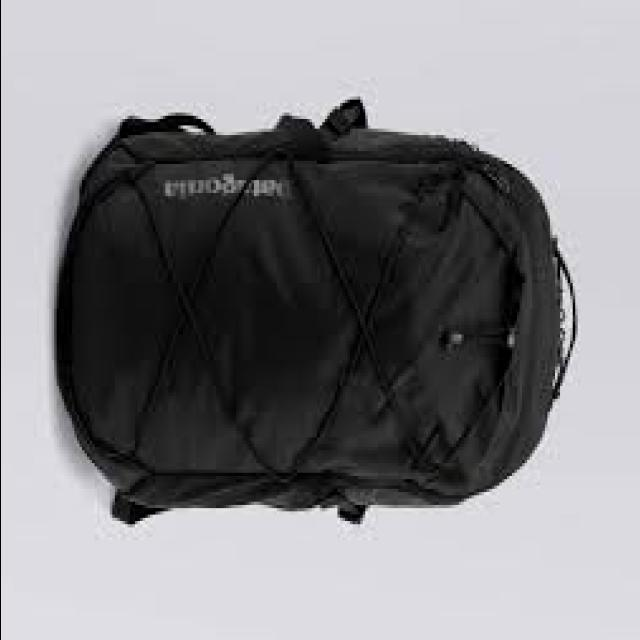backpack: (57, 98, 581, 526)
